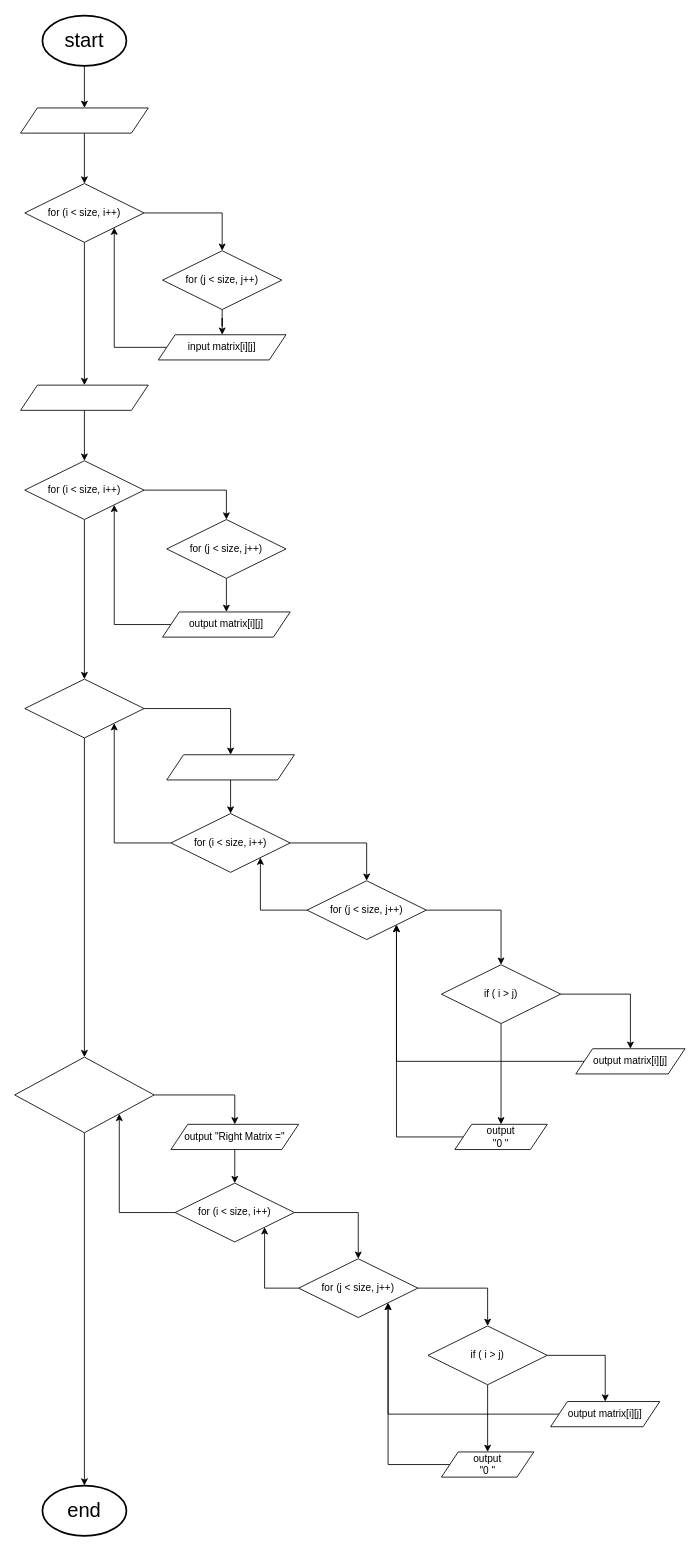
Image size: 700x1551. Some labels were removed from this diagram. Each missing label, with the centre of its shape:
else if ( direction == -1): point (84, 1094)
if (direction == 1): point (84, 708)
input direction: point (84, 397)
input size: point (84, 120)
output "Left Matrix =": point (230, 767)
